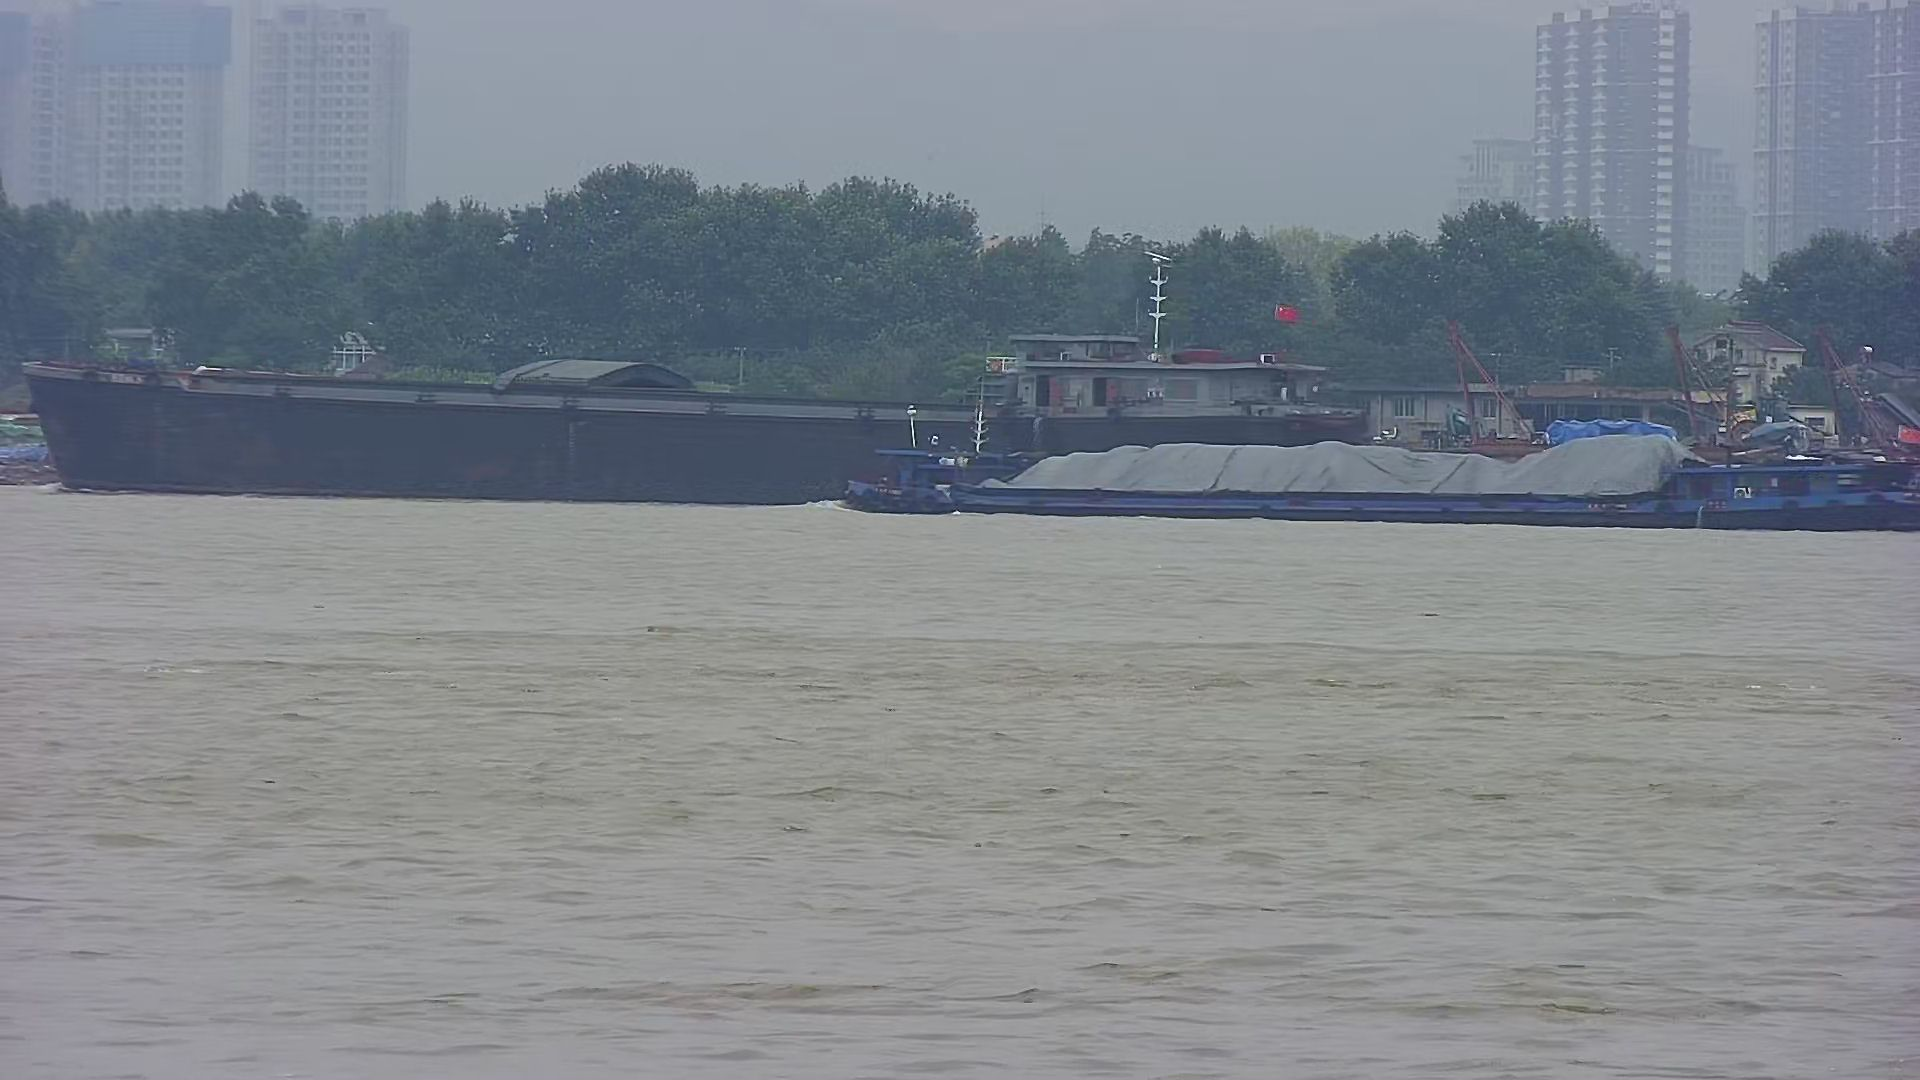ship: (16, 330, 1358, 509), (829, 388, 1920, 530)
